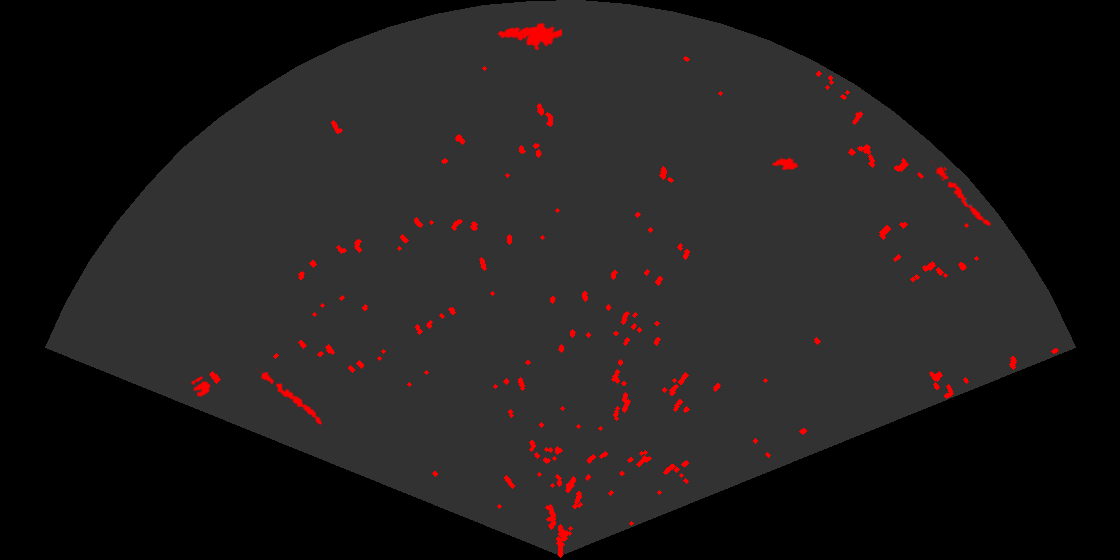AUV: (770, 156, 800, 172)
ball: (189, 375, 212, 399)
chain: (928, 160, 993, 228), (255, 366, 324, 426)
frogman: (496, 21, 562, 52)
